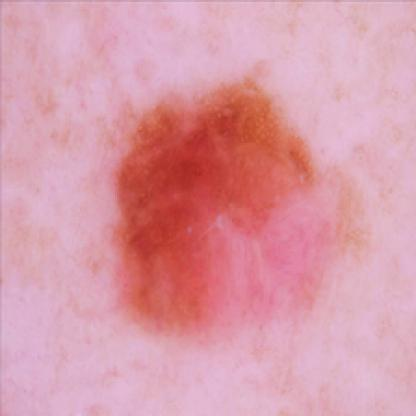benign: (113, 91, 329, 323)
